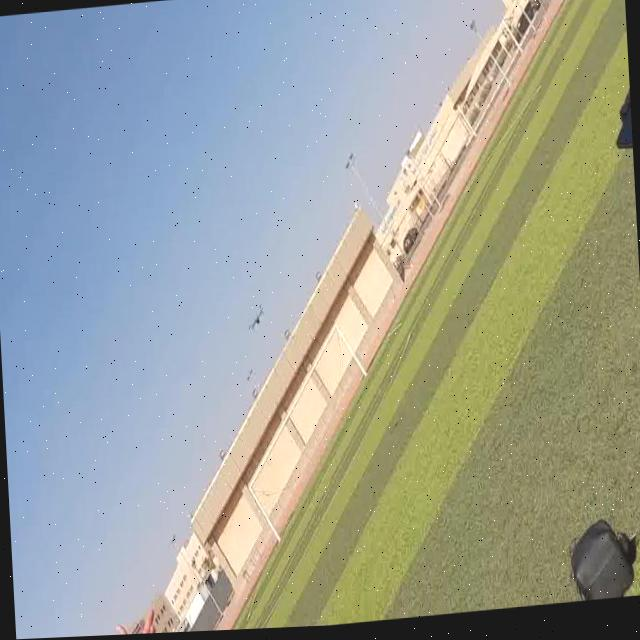drone: (245, 299, 268, 352)
